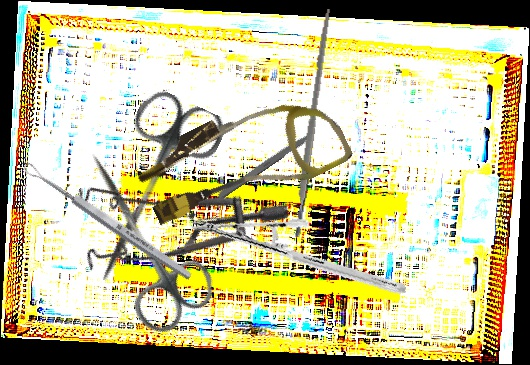Cannula: (129, 71, 355, 247)
Iris Scissors: (53, 133, 226, 342), (66, 84, 231, 300)
Needle Holder: (190, 180, 407, 334)
Scalpel Handle: (291, 8, 333, 238), (201, 129, 315, 210)
Speculum: (49, 99, 294, 323)
Surgical Spoon: (20, 159, 195, 283)
